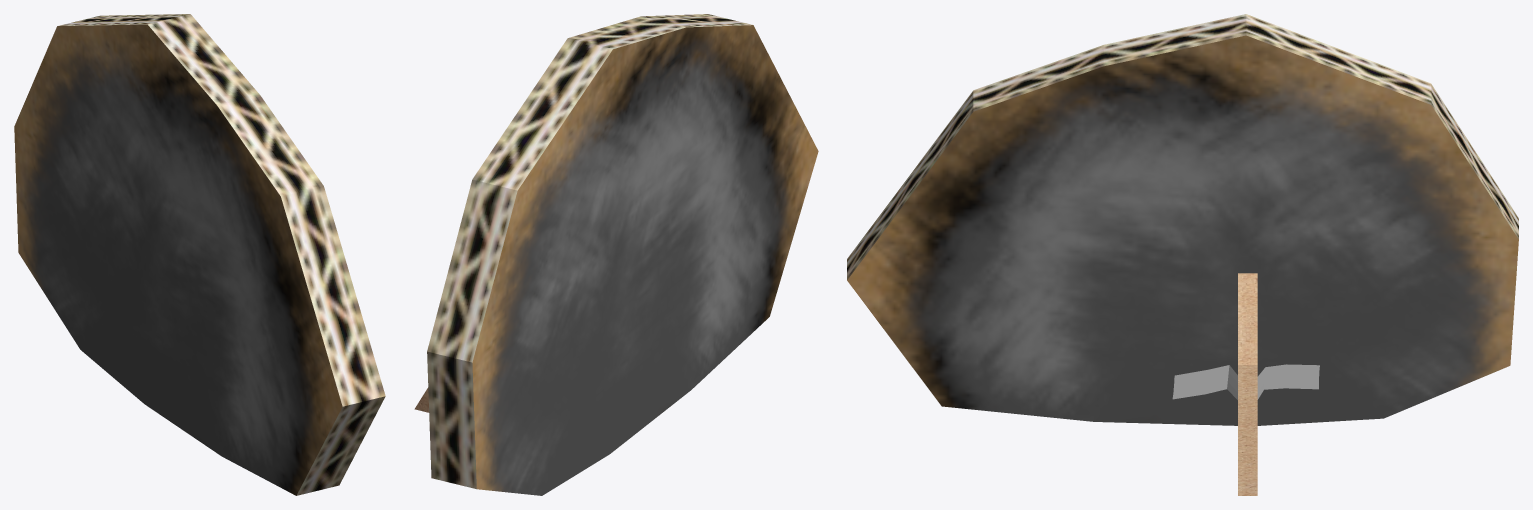
File: Cardboard_boulder.fbx
The picture shows the model from 3 angles, left to right: view 1: azimuth 30°, elevation 25°; view 2: azimuth 150°, elevation 25°; view 3: azimuth 270°, elevation 25°; orthographic projection. The views are drawn at different scales.
Visible parts, largest first — view 1: cardboard_boulder; view 2: cardboard_boulder; view 3: cardboard_boulder.
Boxes of the visible parts, x1,y1,x2,y2 form: cardboard_boulder: [14, 14, 385, 495]; cardboard_boulder: [414, 14, 818, 495]; cardboard_boulder: [847, 14, 1518, 495].
Size of the model in its own units: 9.43 by 18.83 by 29.34.
